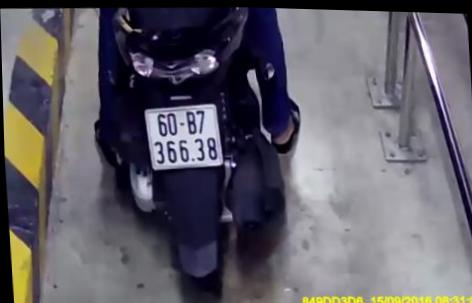LP: (142, 98, 225, 172)
